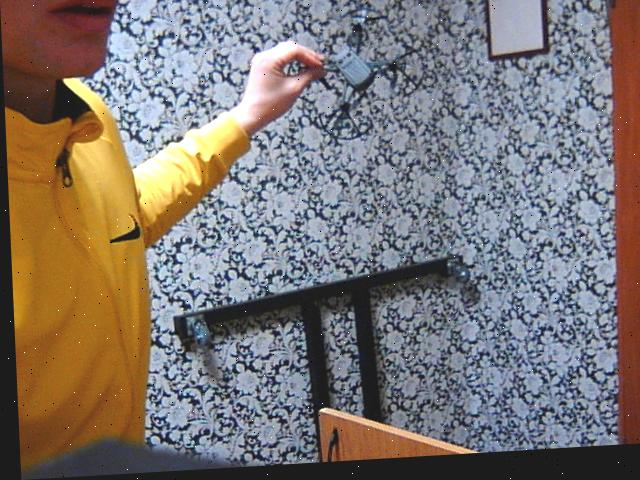drone: (258, 1, 434, 151)
